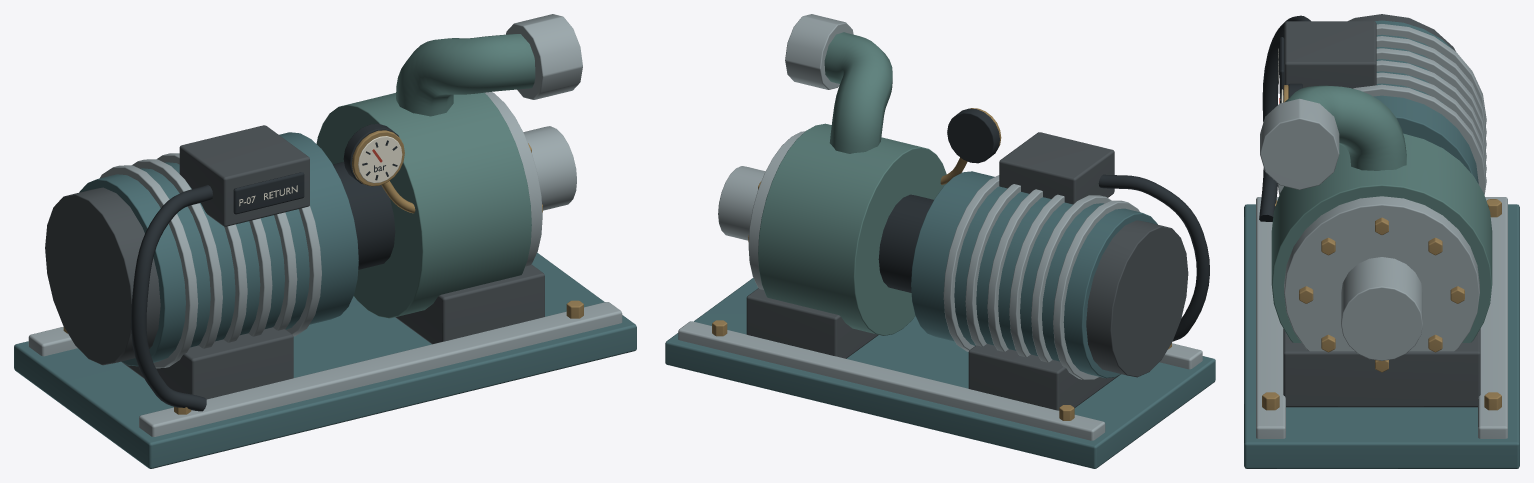
File: HF2_ReturnPump.fbx
3 renders of one model, left to right at view 1: azimuth 30°, elevation 25°; view 2: azimuth 150°, elevation 25°; view 3: azimuth 270°, elevation 25°, orthographic. The views are drawn at different scales.
Parts seen in each view (by area): view 1: HF2_ReturnPump; view 2: HF2_ReturnPump; view 3: HF2_ReturnPump.
Boxes of the visible parts, x1,y1,x2,y2 form: HF2_ReturnPump: (14,14,636,468); HF2_ReturnPump: (665,14,1215,468); HF2_ReturnPump: (1244,14,1519,468).
Size of the model in its own units: 139 by 88.15 by 67.
